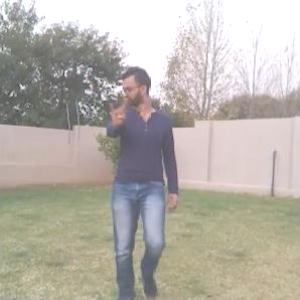takeoff-hand: (105, 86, 130, 129)
